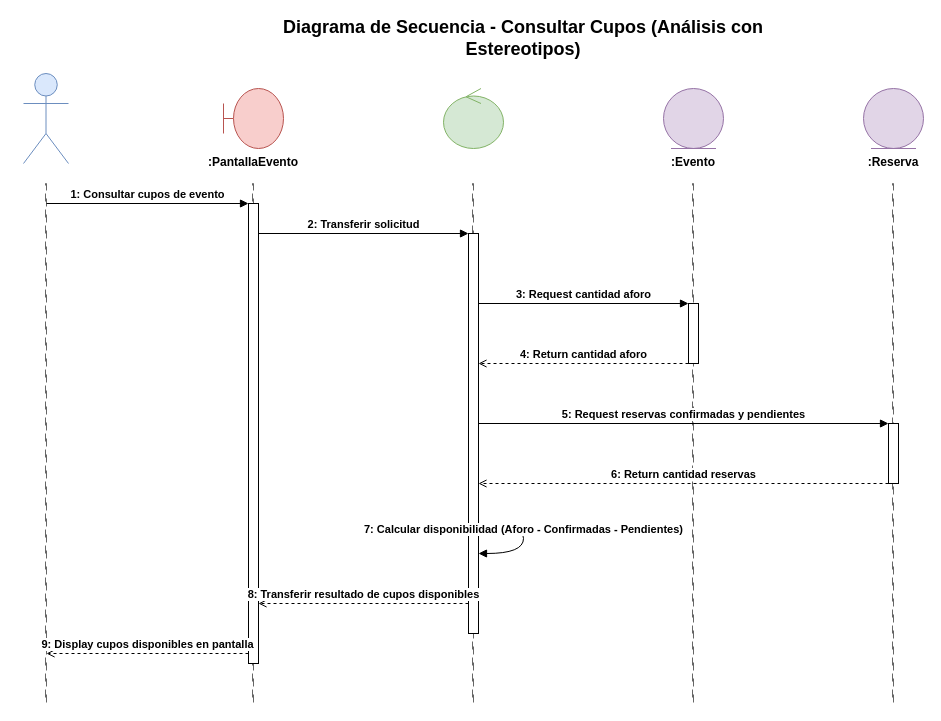
Image size: 941x721. Some labels were removed from this diagram. Each missing label, with the centre of its shape:
":CalculoCupos" goes at (x=473, y=118).
"Estudiante" goes at (x=45, y=118).
